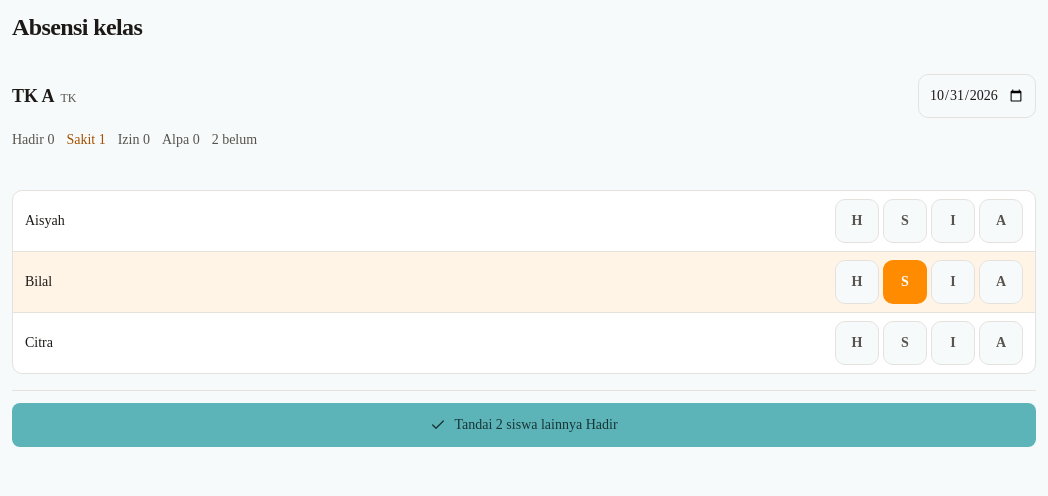
Test: ClassAttendancePage recovery › puts the rows back to belum when the bulk save fails, and the button retries
Click the button "Tandai 2 siswa lainnya Hadir". click: (524, 425)
box: [12,403,1036,447]
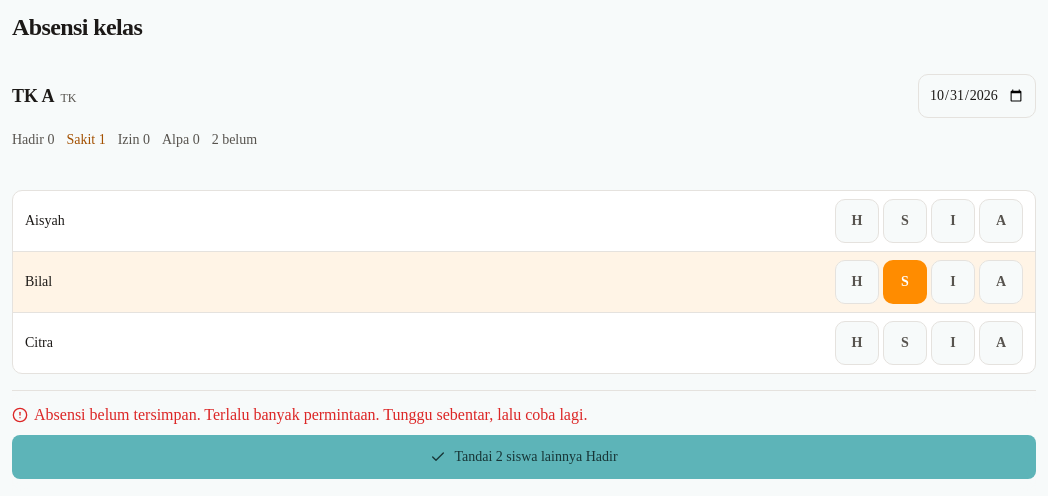
Expected: the text "Hadir 0" is shown, [12,130,54,150]
Expected: the message shows "Absensi belum tersimpan. Terlalu banyak permintaan. Tunggu sebentar, lalu coba lagi.", [34,406,587,423]
Click the button "Tandai 2 siswa lainnya Hadir". click: (524, 457)
box: [12,435,1036,479]
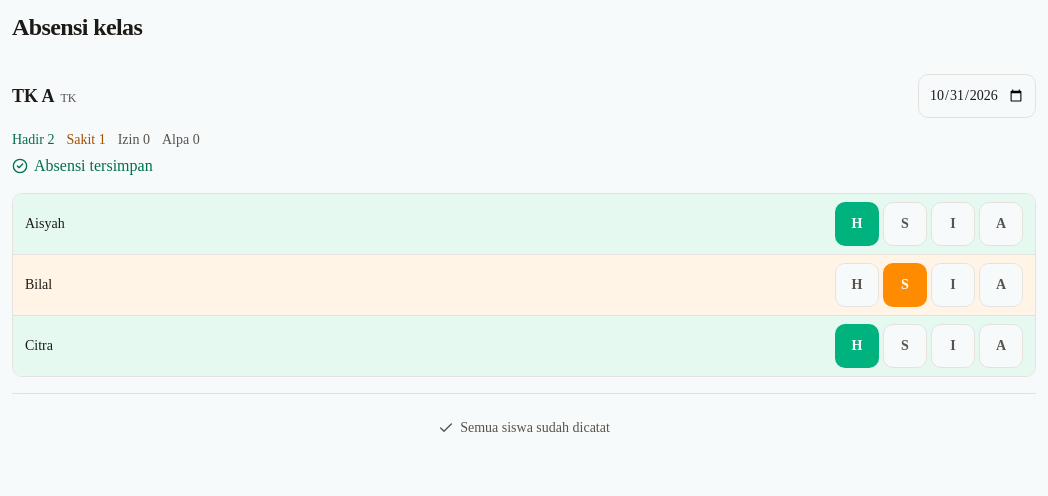
Expected: the text "Semua siswa sudah dicatat" is shown, [438,420,610,436]
